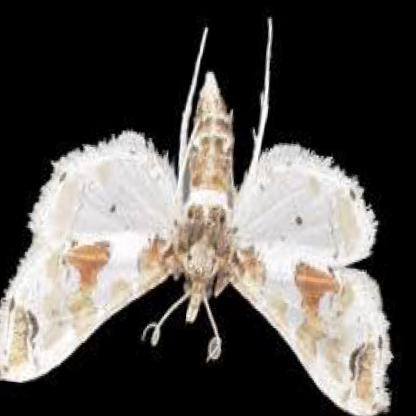leucinodes: (0, 68, 386, 416)
